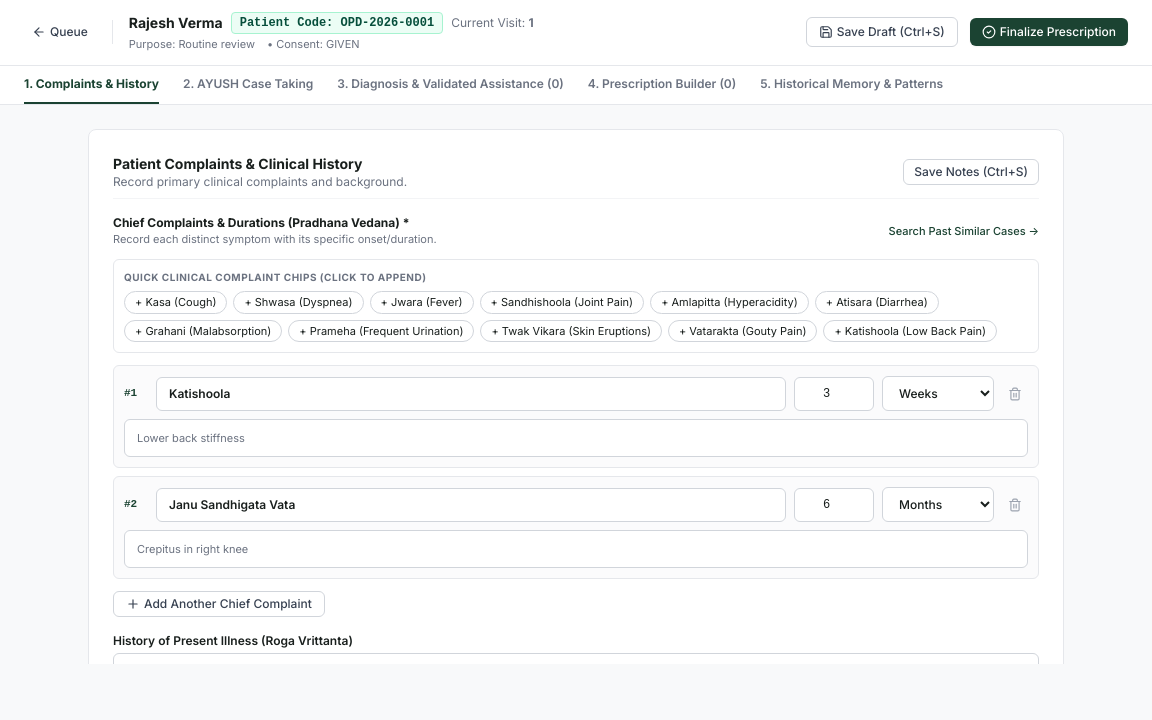
Scenario: Repeatable Chief Complaints UI in ConsultationWorkspace › adds a new complaint row when "Add Another Chief Complaint" is clicked
This screenshot has width=1152, height=720.
Expected: the text "Chief Complaints & Durations (Pradhana Vedana) *" is shown, 113,214 -> 437,230
Click the button "Add Another Chief Complaint" at coordinates (219, 604), box 113,591 -> 325,617
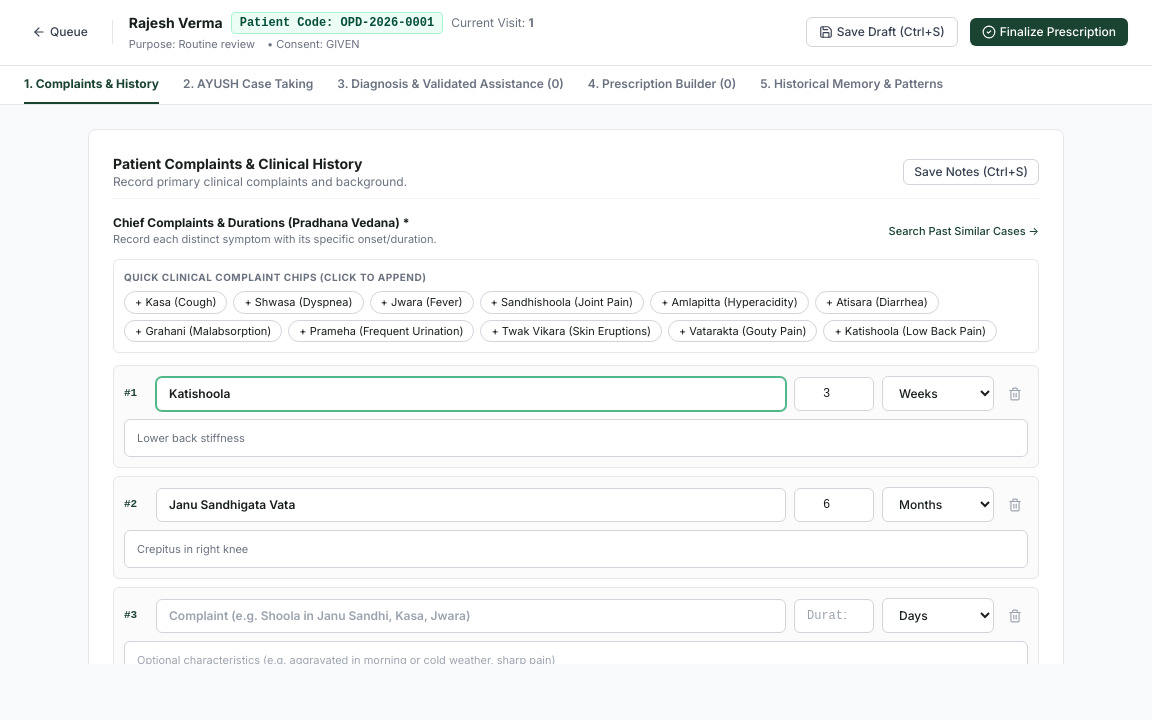
Result: the number of fields with placeholder "Complaint (e.g. Shoola in Janu Sandhi, Kasa, Jwara)" is 3 at 156,376 -> 786,410; 156,488 -> 786,522; 156,598 -> 786,632
